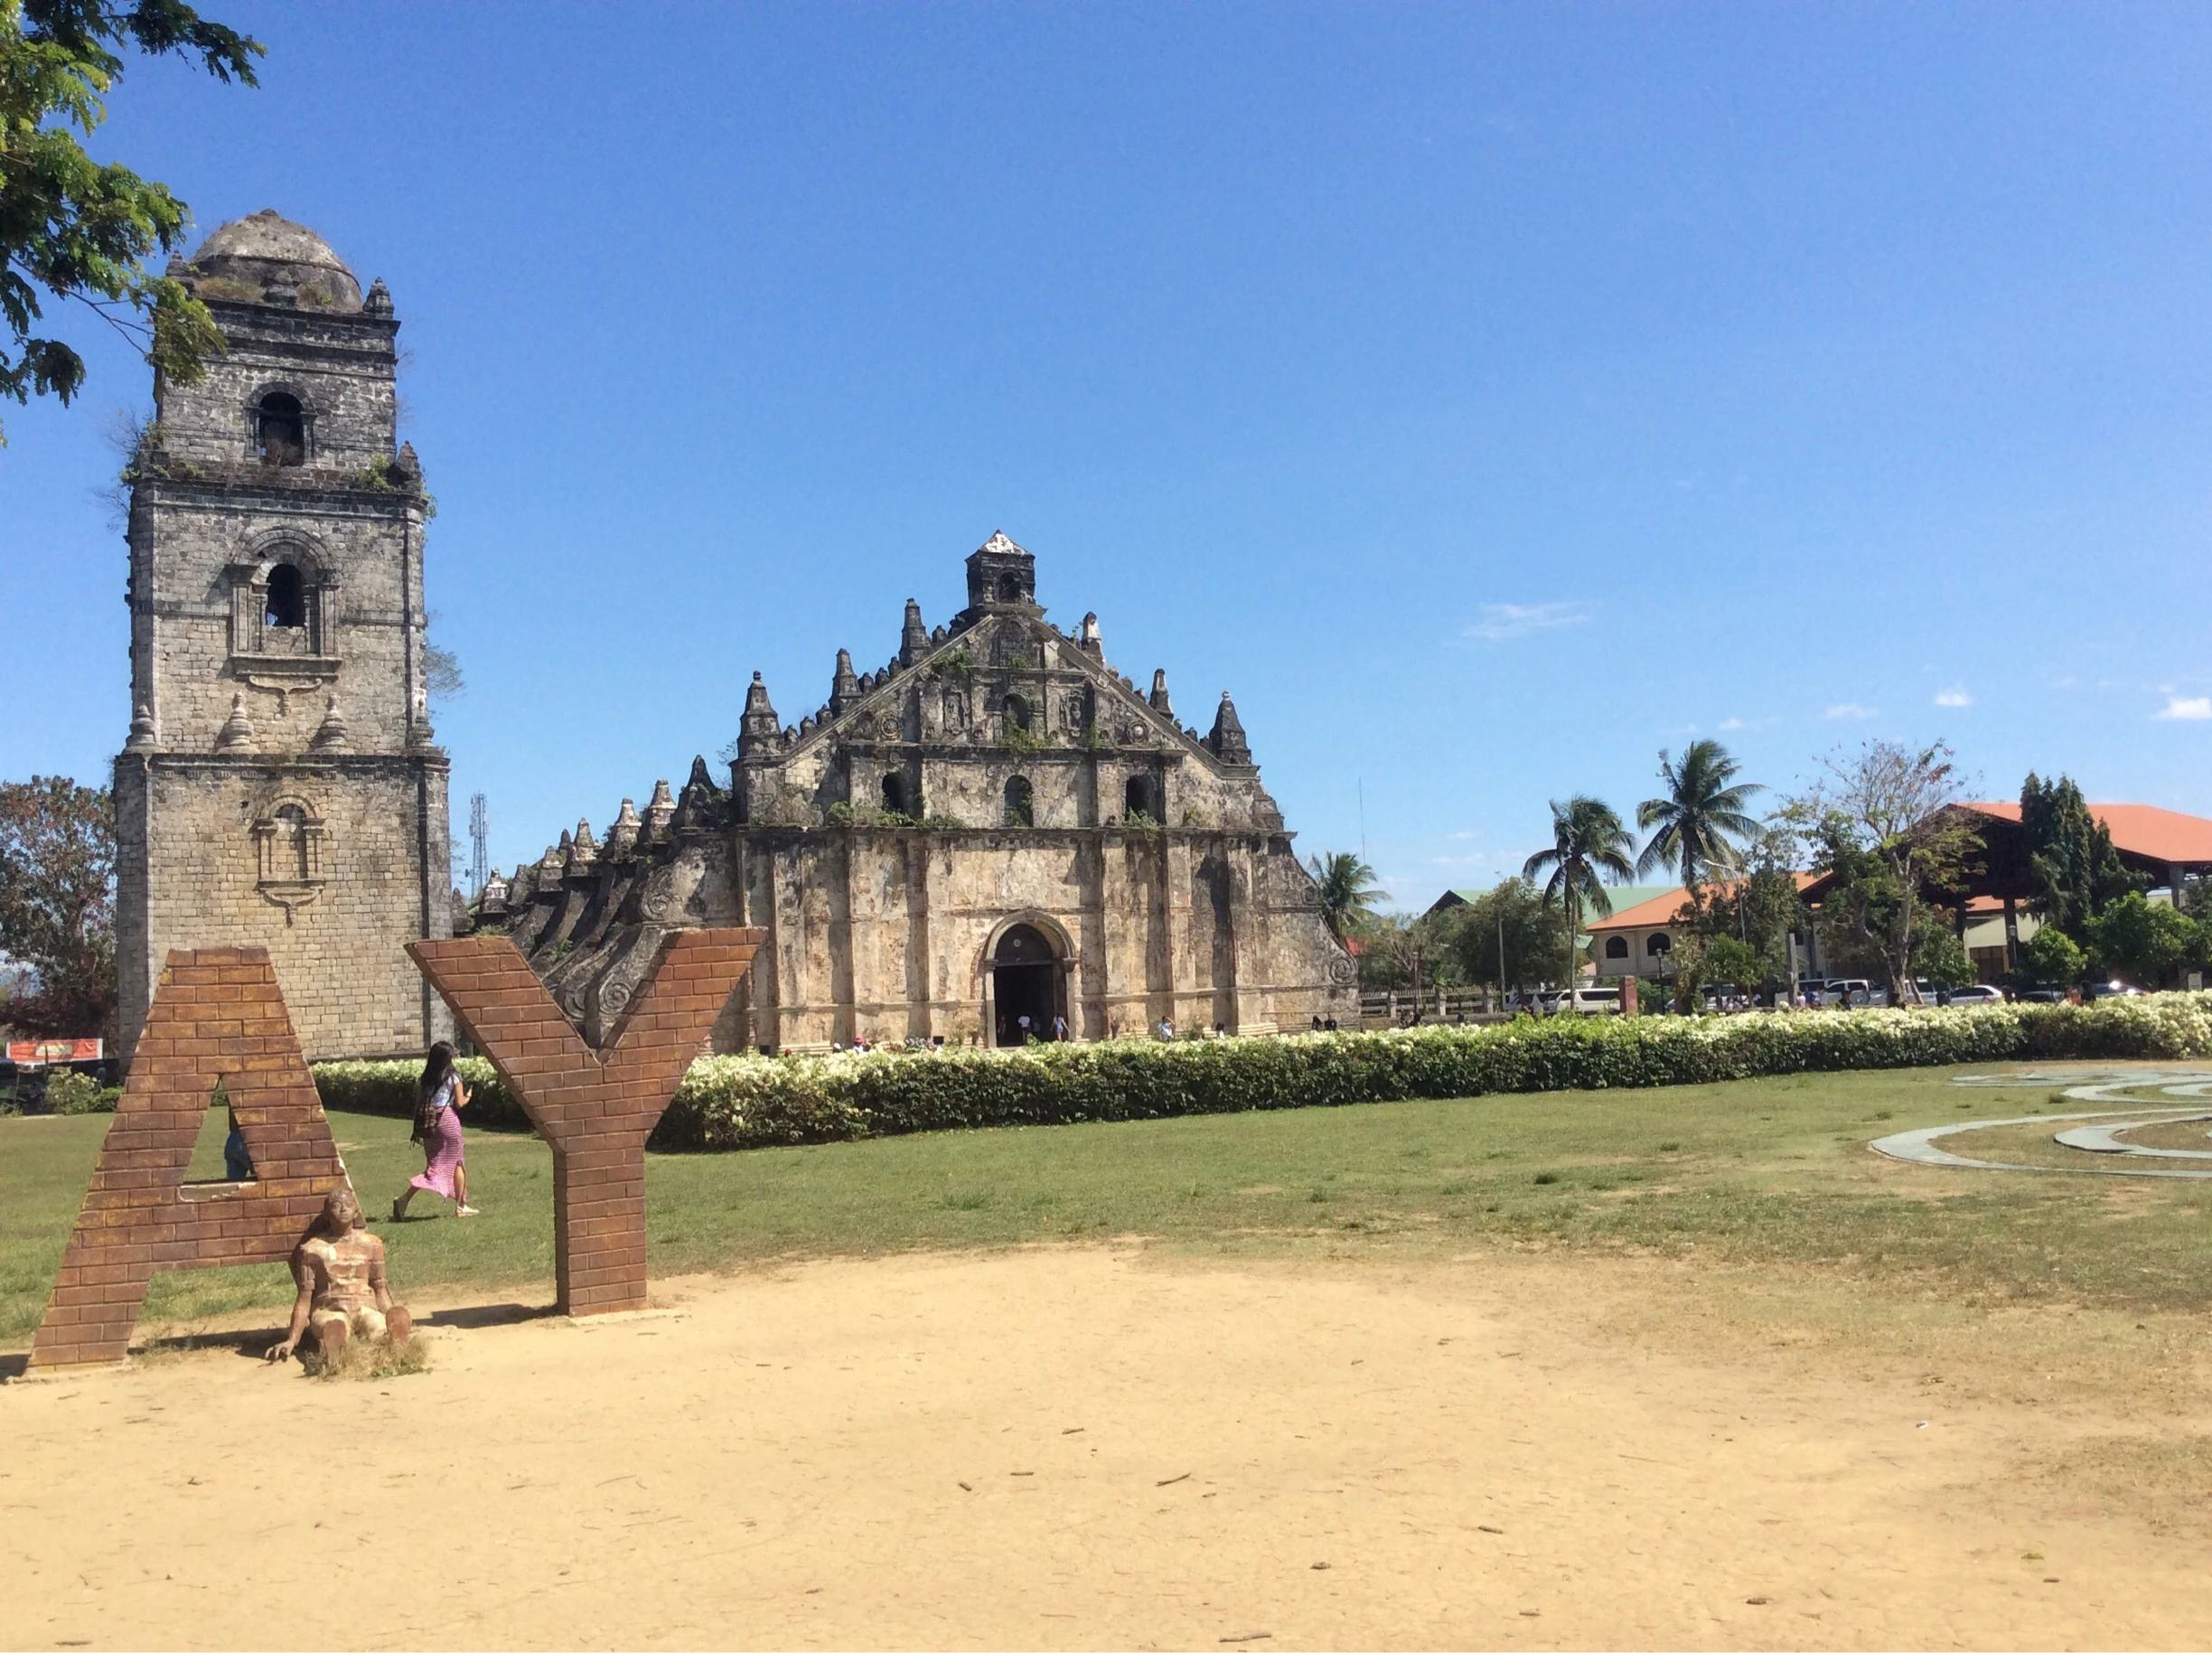Environmental Damage: (806, 804, 986, 847), (113, 415, 205, 495), (347, 451, 432, 504), (997, 724, 1078, 761)
Paoay Church: (113, 194, 1373, 1054)
